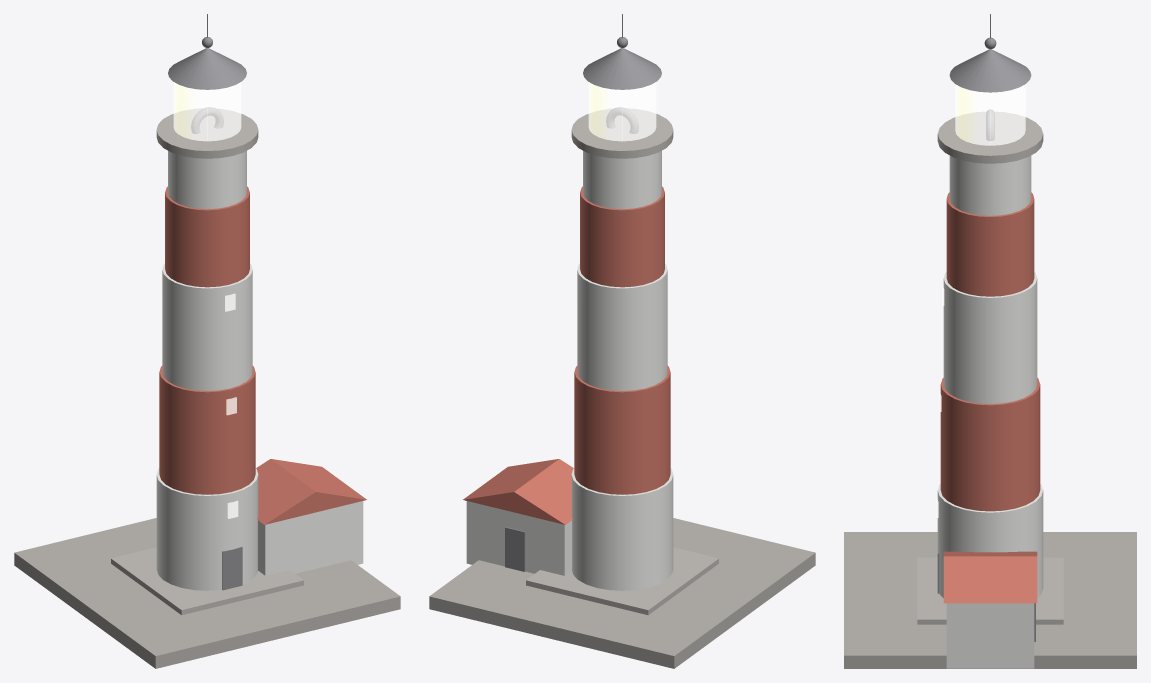
The model's file is lighthouse.glb.
3 renders of one model, left to right at view 1: azimuth 30°, elevation 25°; view 2: azimuth 150°, elevation 25°; view 3: azimuth 270°, elevation 25°, orthographic. The views are drawn at different scales.
Parts seen in each view (by area): view 1: rock_base, tier_2, tier_3, tier_1, tier_4, house, house_roof, foundation, tier_5, gallery_base, lantern_room, lantern_roof (+1 smaller); view 2: rock_base, tier_2, tier_1, tier_3, tier_4, house, house_roof, foundation, tier_5, gallery_base, lantern_room, lantern_roof (+1 smaller); view 3: rock_base, tier_2, tier_3, tier_4, house, tier_1, house_roof, gallery_base, tier_5, lantern_room, foundation, lantern_roof.
Part boxes in pixels (bbox=[...]): rock_base: bbox=[14, 518, 400, 668]; tier_2: bbox=[159, 366, 255, 494]; tier_3: bbox=[162, 263, 252, 390]; tier_1: bbox=[156, 468, 258, 590]; tier_4: bbox=[165, 186, 249, 287]; house: bbox=[258, 501, 363, 575]; house_roof: bbox=[256, 459, 366, 524]; foundation: bbox=[111, 547, 303, 615]; tier_5: bbox=[168, 151, 246, 209]; gallery_base: bbox=[156, 108, 258, 158]; lantern_room: bbox=[173, 82, 241, 141]; lantern_roof: bbox=[168, 48, 246, 89]; rock_base: bbox=[429, 518, 815, 668]; tier_2: bbox=[574, 366, 670, 494]; tier_1: bbox=[571, 468, 673, 590]; tier_3: bbox=[577, 263, 667, 390]; tier_4: bbox=[580, 186, 664, 287]; house: bbox=[466, 501, 571, 575]; house_roof: bbox=[463, 459, 573, 524]; foundation: bbox=[526, 547, 718, 615]; tier_5: bbox=[583, 151, 661, 209]; gallery_base: bbox=[571, 108, 673, 158]; lantern_room: bbox=[588, 82, 656, 141]; lantern_roof: bbox=[583, 48, 661, 89]; rock_base: bbox=[844, 532, 1136, 668]; tier_2: bbox=[940, 378, 1040, 511]; tier_3: bbox=[943, 272, 1037, 403]; tier_4: bbox=[946, 192, 1034, 296]; house: bbox=[946, 603, 1034, 668]; tier_1: bbox=[937, 484, 1043, 597]; house_roof: bbox=[943, 551, 1037, 603]; gallery_base: bbox=[937, 112, 1043, 163]; tier_5: bbox=[949, 155, 1031, 215]; lantern_room: bbox=[955, 84, 1025, 145]; foundation: bbox=[917, 557, 1063, 624]; lantern_roof: bbox=[949, 49, 1031, 92].
Bounding box in the file's own units: 10.6 × 22.35 × 10.
